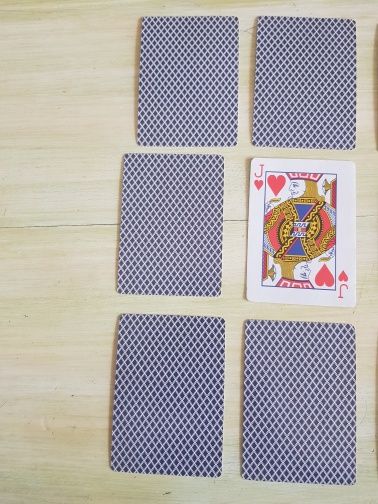jack: (245, 156, 358, 309)
